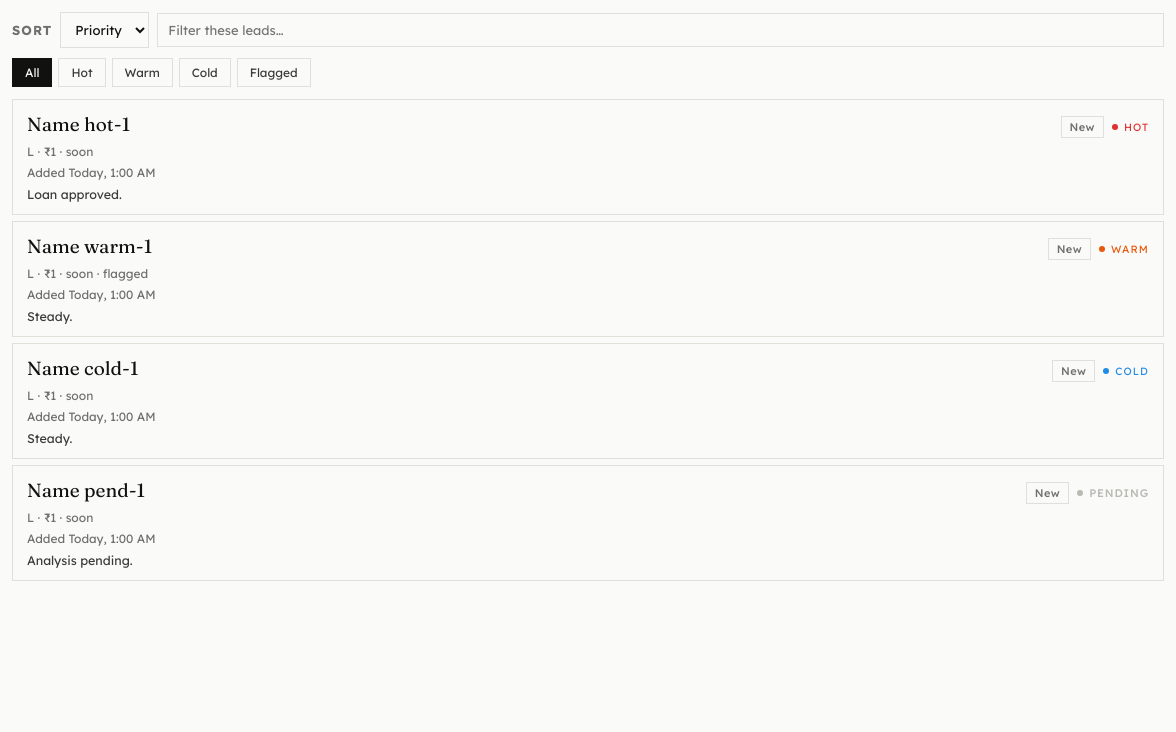
Test case: filter chips narrow the list
The image size is (1176, 732).
Click the button "Hot": click(82, 72) [58, 58, 106, 87]
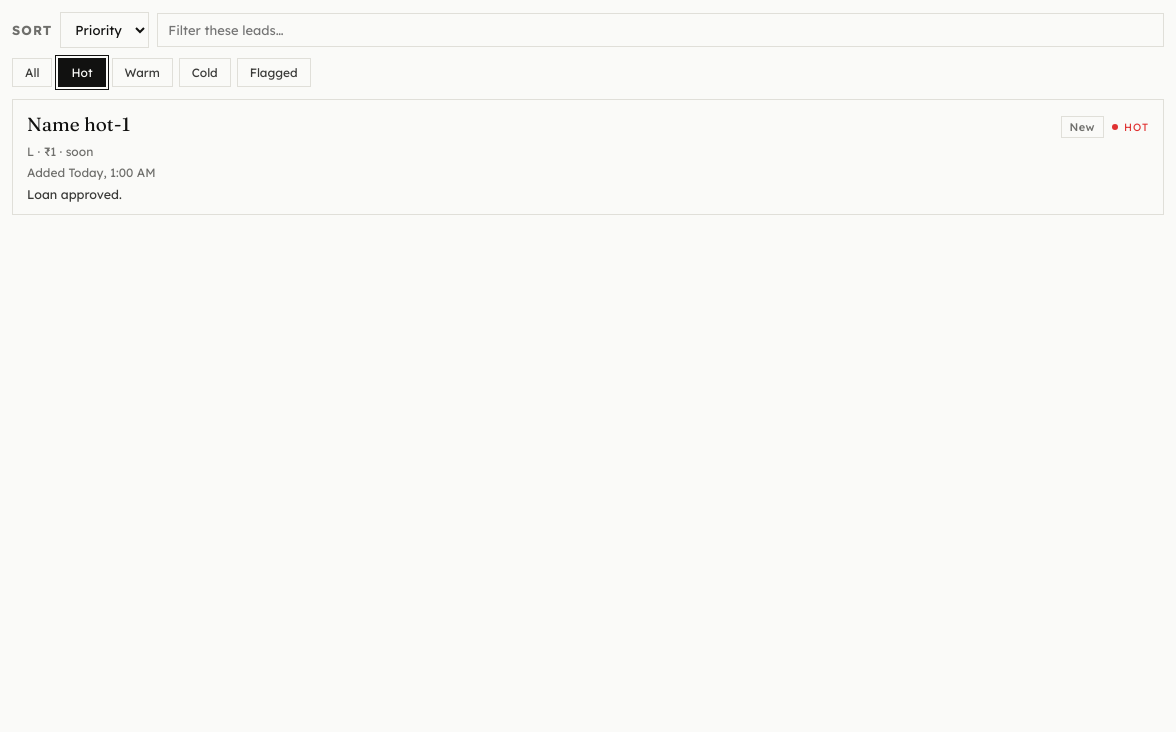
Now the number of links is 1, box [12, 99, 1164, 215]
